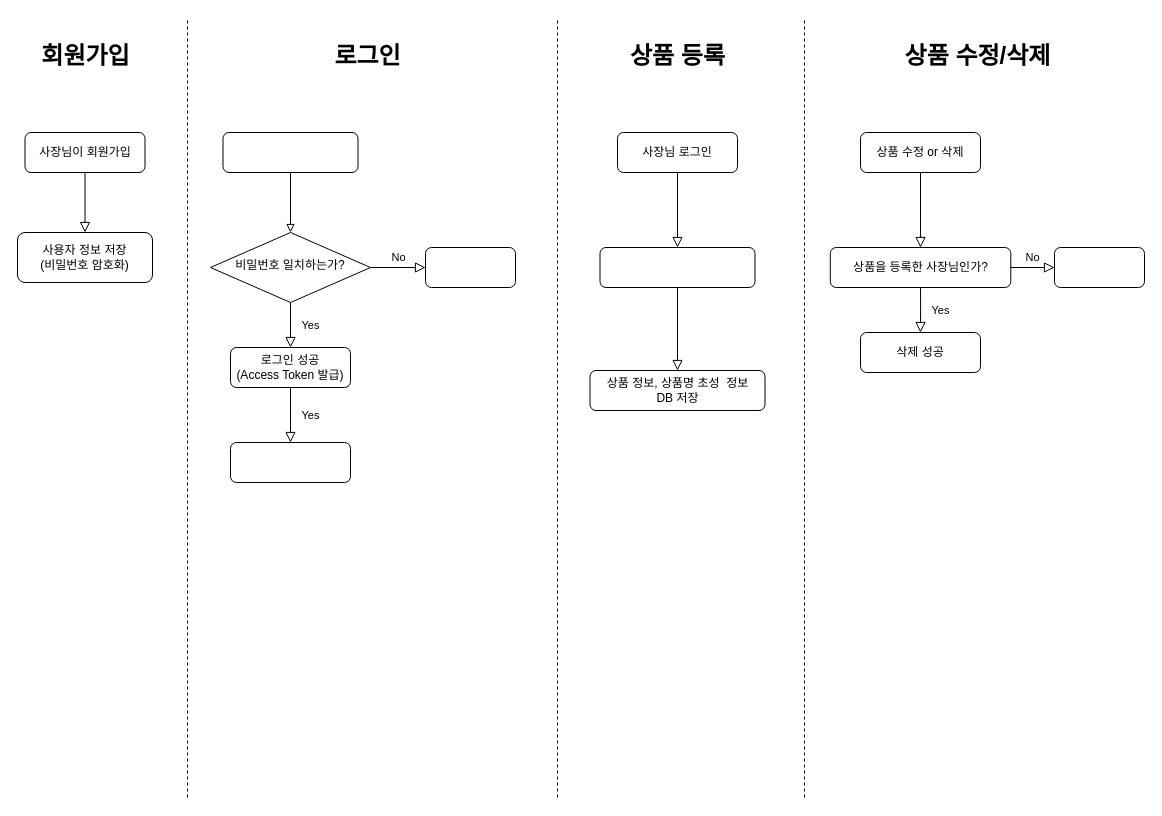
This 1162x816 diagram has some shape labels left out. Each missing label, with the centre of its shape:
"로그인 실패" goes at point 470,267.
"삭제 실패" goes at point 1099,267.
"상품 정보 입력 후 등록" goes at point 677,267.
"아이디, 비밀번호 입력" goes at point 290,152.
"알림 발송" goes at point 290,462.
